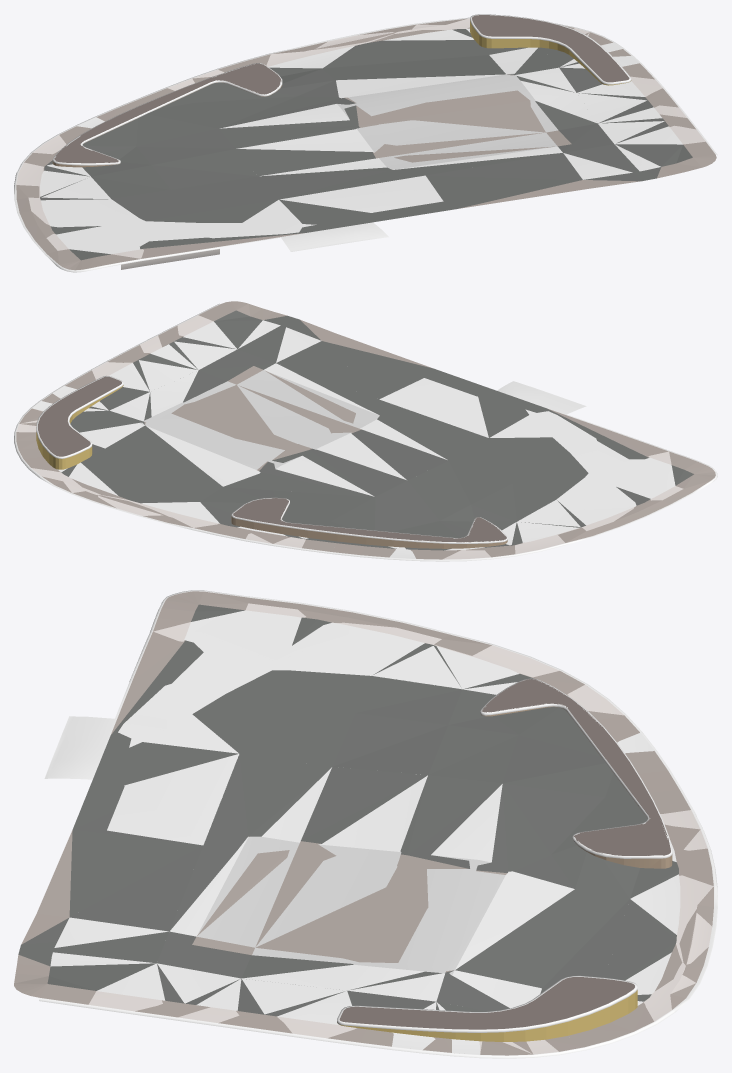
Rendered from sidewalk_gasstation_north_nolines.dae.
3 views of the same model, one above another, from view 1: azimuth 30°, elevation 25°; view 2: azimuth 150°, elevation 25°; view 3: azimuth 270°, elevation 25° (orthographic). The views are drawn at different scales.
Parts seen in each view (by area): view 1: sidewalk_gasstation_north_a500, sidewalk_gasstation_north_a1000; view 2: sidewalk_gasstation_north_a500, sidewalk_gasstation_north_a1000; view 3: sidewalk_gasstation_north_a500, sidewalk_gasstation_north_a1000.
Boxes of the visible parts, x1,y1,x2,y2 form: sidewalk_gasstation_north_a500: (16, 15, 716, 270); sidewalk_gasstation_north_a1000: (14, 14, 717, 272); sidewalk_gasstation_north_a500: (16, 301, 715, 559); sidewalk_gasstation_north_a1000: (14, 303, 717, 561); sidewalk_gasstation_north_a500: (14, 591, 713, 1055); sidewalk_gasstation_north_a1000: (39, 590, 717, 1058).
Size of the model in its own units: 64.06 by 41.92 by 2.32.
